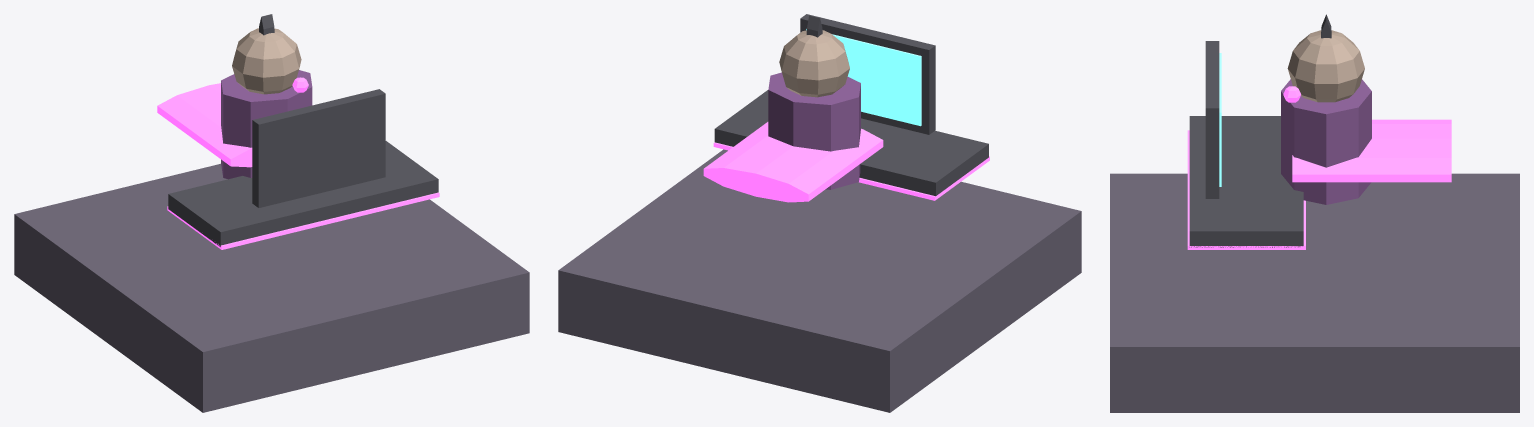
File: human_streamer.glb
3 views of the same model, side by side, from view 1: azimuth 30°, elevation 25°; view 2: azimuth 150°, elevation 25°; view 3: azimuth 270°, elevation 25° (orthographic). The views are drawn at different scales.
Parts seen in each view (by area): view 1: Base, TurretMesh, TurretGlow, HeadMesh; view 2: Base, TurretMesh, TurretGlow, Screen, HeadMesh; view 3: Base, TurretMesh, TurretGlow, HeadMesh, Screen.
Boxes of the visible parts, x1=… form: Base: x1=14, y1=163, x2=529, y2=412; TurretMesh: x1=168, y1=70, x2=438, y2=246; TurretGlow: x1=157, y1=83, x2=439, y2=249; HeadMesh: x1=232, y1=14, x2=301, y2=94; Base: x1=558, y1=149, x2=1081, y2=412; TurretMesh: x1=714, y1=14, x2=988, y2=196; TurretGlow: x1=703, y1=122, x2=989, y2=202; Screen: x1=806, y1=29, x2=921, y2=126; HeadMesh: x1=779, y1=15, x2=849, y2=97; Base: x1=1110, y1=173, x2=1519, y2=412; TurretMesh: x1=1189, y1=41, x2=1371, y2=247; TurretGlow: x1=1187, y1=119, x2=1451, y2=249; HeadMesh: x1=1287, y1=14, x2=1364, y2=102; Screen: x1=1219, y1=53, x2=1221, y2=186.
Size of the model in its own units: 1.8 by 1.5 by 1.8.
